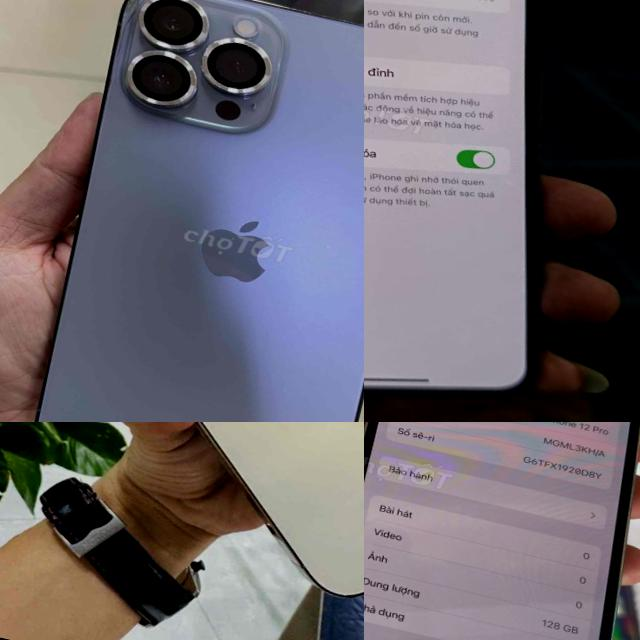gen_11: (364, 0, 540, 395)
gen_12_13: (10, 0, 364, 422), (364, 422, 640, 640)
gen_14: (0, 422, 364, 634)
